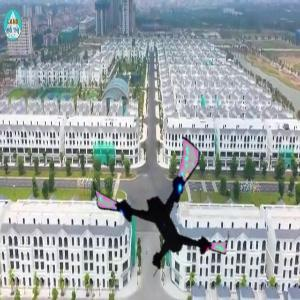drone: (94, 147, 224, 277)
